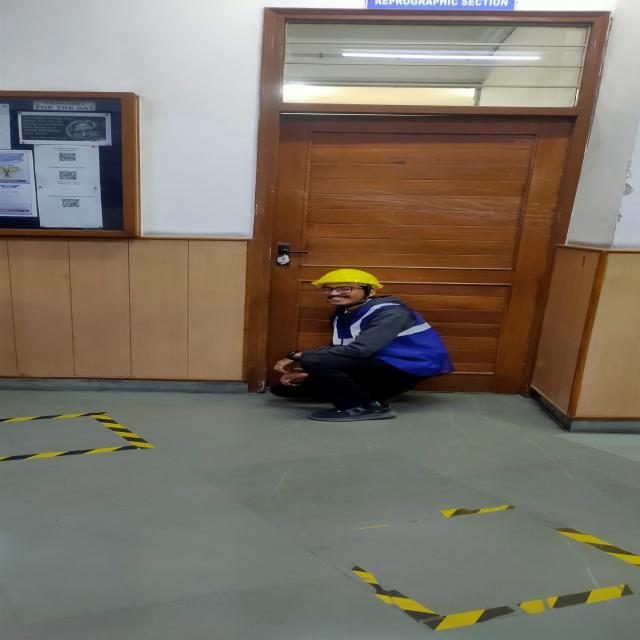safe: (273, 269, 451, 422)
